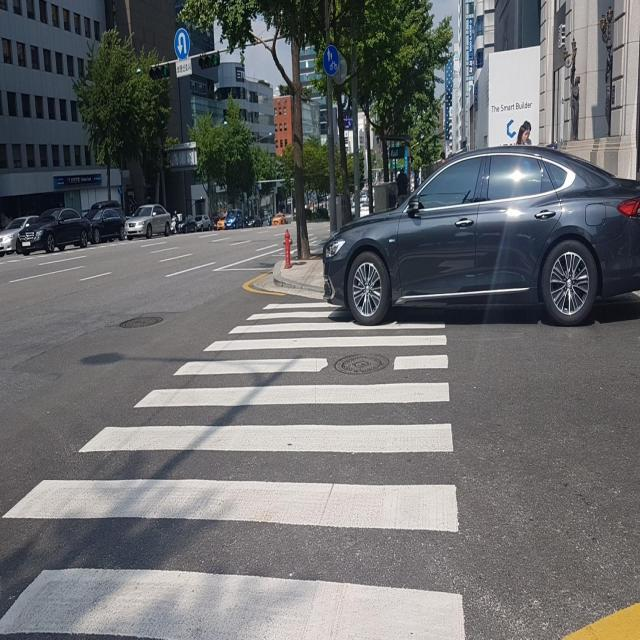횡단보도: (0, 297, 469, 640)
